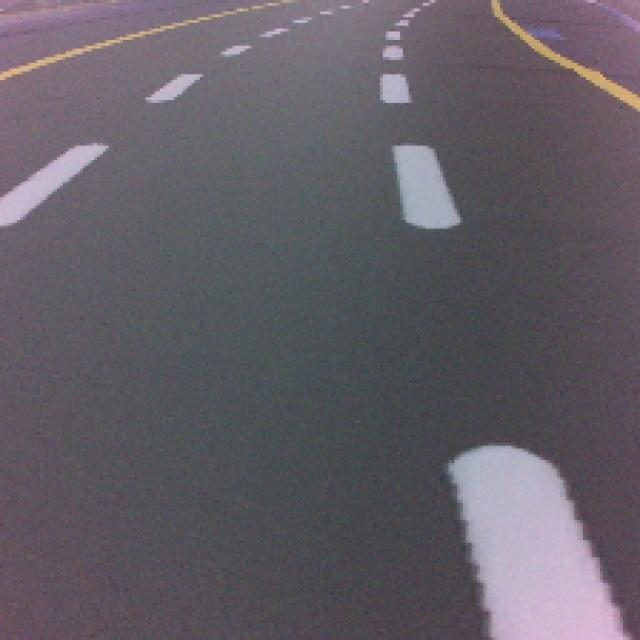Road: (0, 438, 499, 640)
